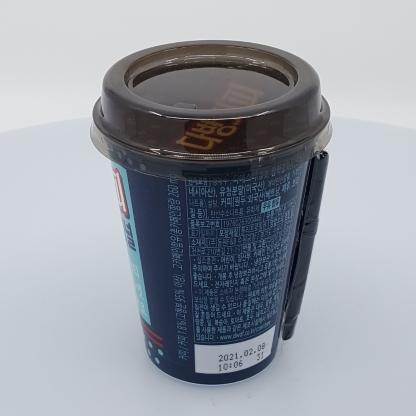----------: (90, 40, 333, 385)
